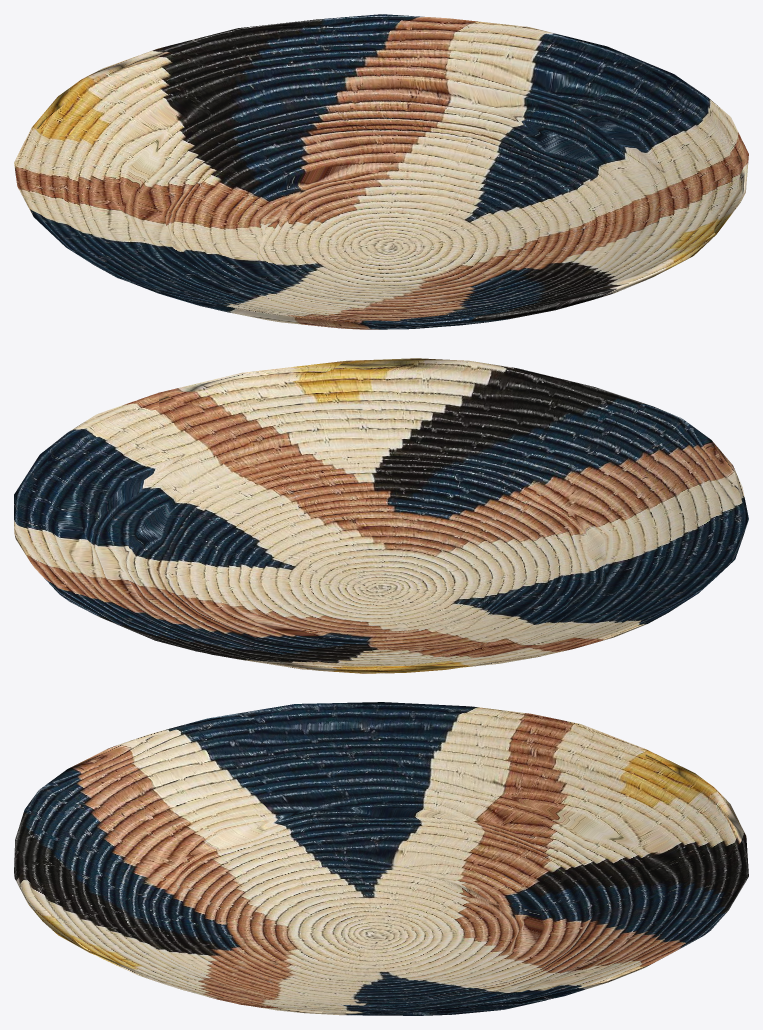
File: Radial Multi-Stripe Basket.fbx
3 views of the same model, one above another, from view 1: azimuth 30°, elevation 25°; view 2: azimuth 150°, elevation 25°; view 3: azimuth 270°, elevation 25° (orthographic).
Visible parts, largest first — view 1: Radial Multi-Stripe Basket; view 2: Radial Multi-Stripe Basket; view 3: Radial Multi-Stripe Basket.
Boxes of the visible parts, x1,y1,x2,y2 form: Radial Multi-Stripe Basket: [14, 14, 748, 329]; Radial Multi-Stripe Basket: [14, 358, 748, 673]; Radial Multi-Stripe Basket: [14, 702, 748, 1015].
Size of the model in its own units: 37.72 by 4.85 by 37.6.
1 material, 1 textured.
